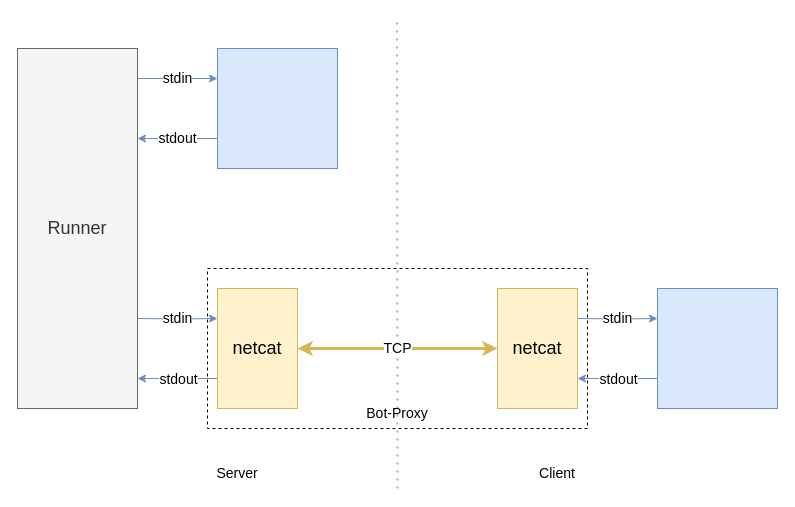
Some shapes in this 795 by 507 pixel diagram are drawn without their labels. The centre of each missing label's shape, as x and y in pixels:
"Bot (local)" goes at [277,108].
"Bot (remote)" goes at [717,348].
